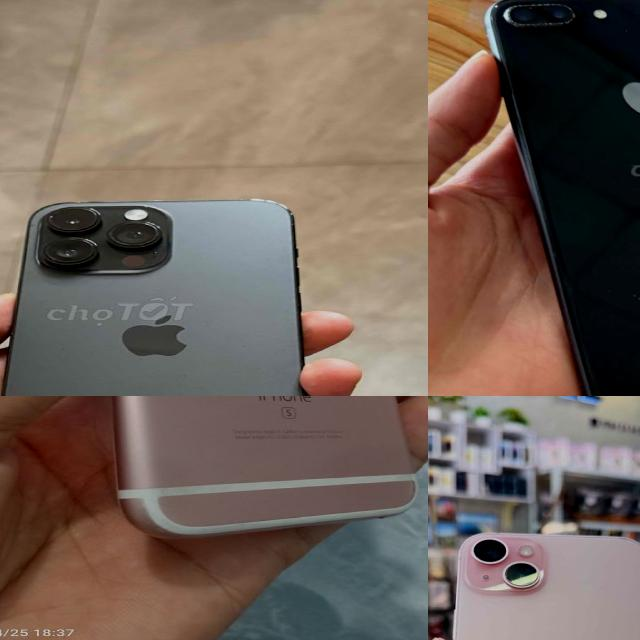gen_14: (0, 195, 326, 396)
gen_15: (437, 522, 640, 640)
gen_6: (66, 396, 428, 542)
gen_7_8: (473, 0, 640, 396)
scratch: (499, 0, 585, 30), (600, 277, 640, 315), (480, 0, 514, 29), (569, 373, 598, 395), (614, 18, 640, 40)
